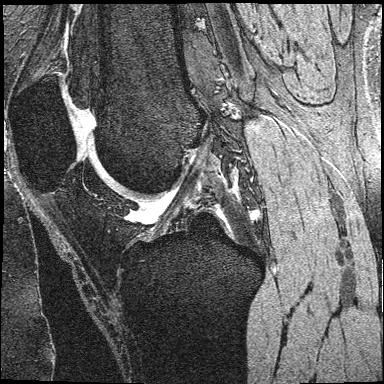SagKneeJointArea: (7, 73, 267, 323)
